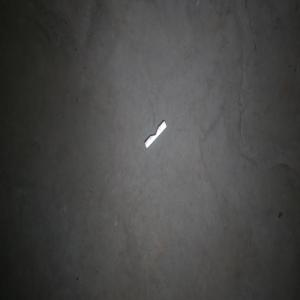ClampPart: (143, 119, 167, 150)
